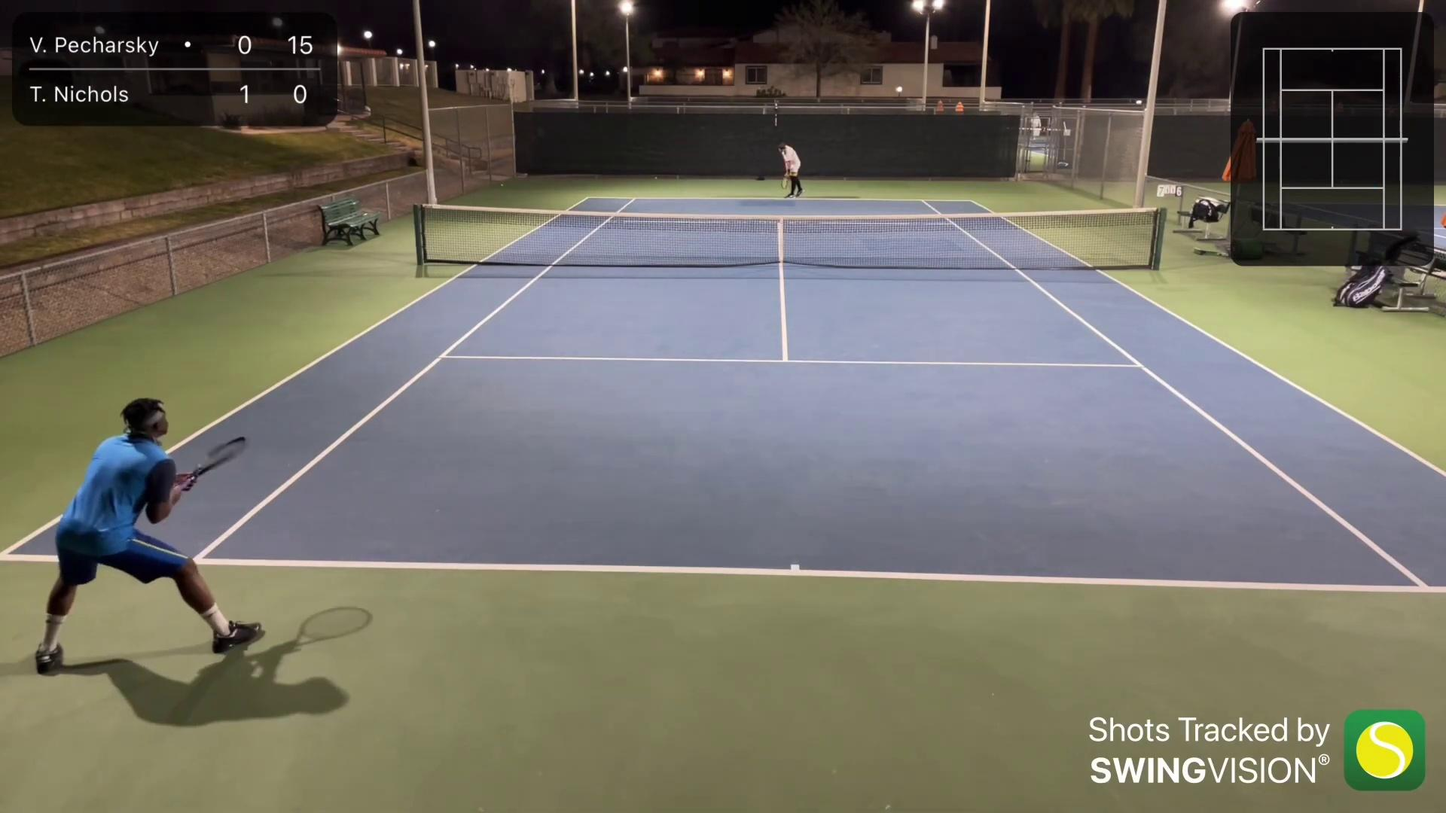ball: (651, 174, 661, 182), (498, 182, 506, 187)
